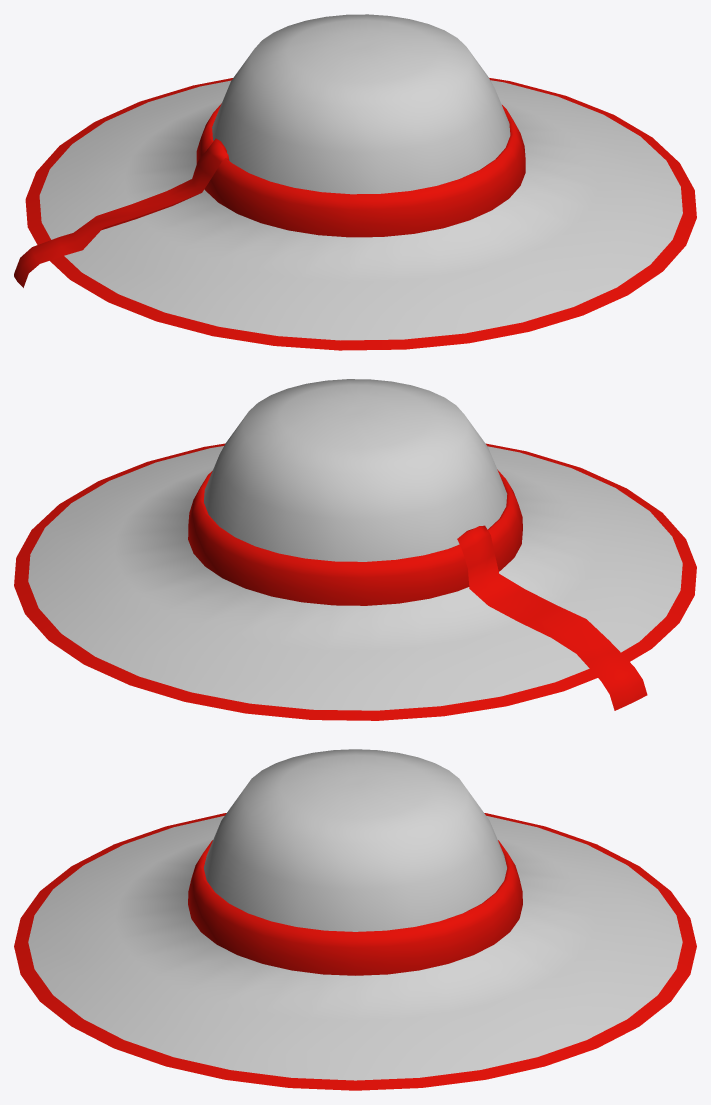
File: Wear_Straw.glb
3 renders of one model, top to bottom at view 1: azimuth 30°, elevation 25°; view 2: azimuth 150°, elevation 25°; view 3: azimuth 270°, elevation 25°, orthographic.
Parts seen in each view (by area): view 1: Circle; view 2: Circle; view 3: Circle.
Boxes of the visible parts, box(x1,y1,x2,y2) form: Circle: box(14, 14, 696, 350); Circle: box(14, 379, 696, 720); Circle: box(14, 749, 696, 1090).
Bounding box in the file's own units: 42.93 × 12.78 × 41.44.
